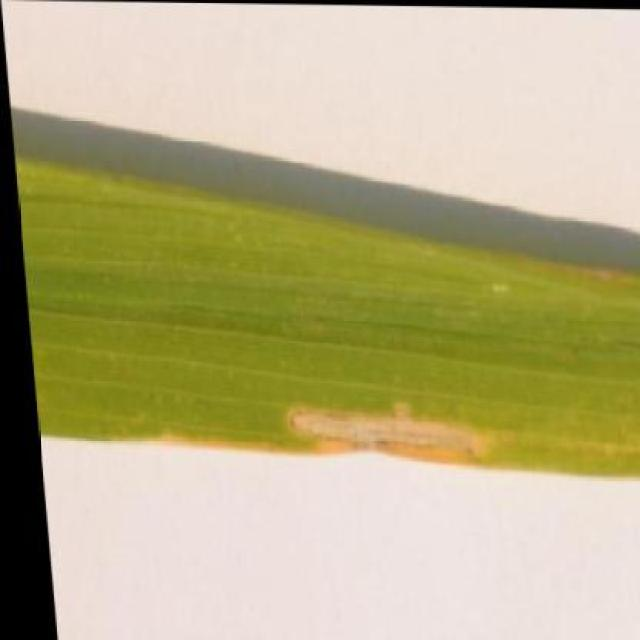Brown_Spot: (9, 148, 640, 484)
